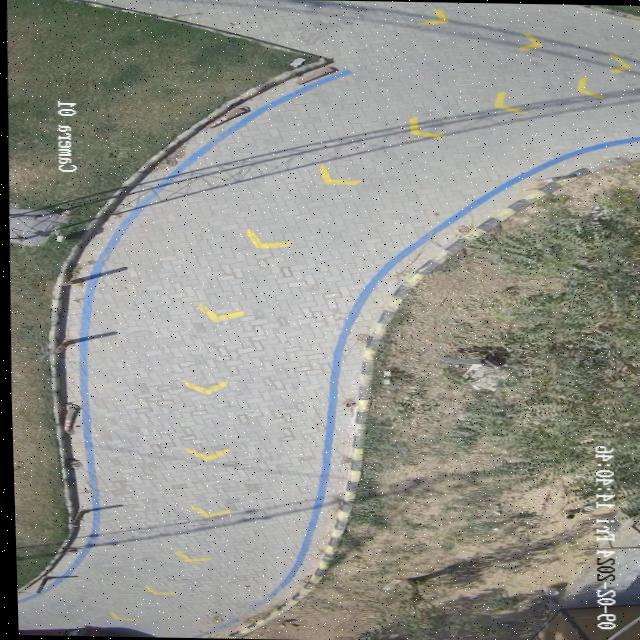No Car: (6, 0, 640, 640)
